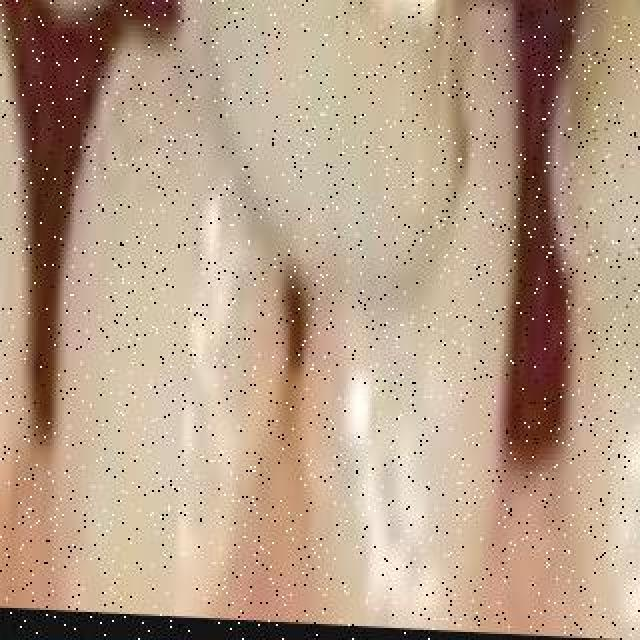cavities: (204, 0, 502, 148), (588, 0, 640, 298)
spacing: (465, 26, 611, 522), (0, 40, 128, 512), (444, 0, 632, 184), (245, 225, 313, 461), (104, 0, 222, 40)
